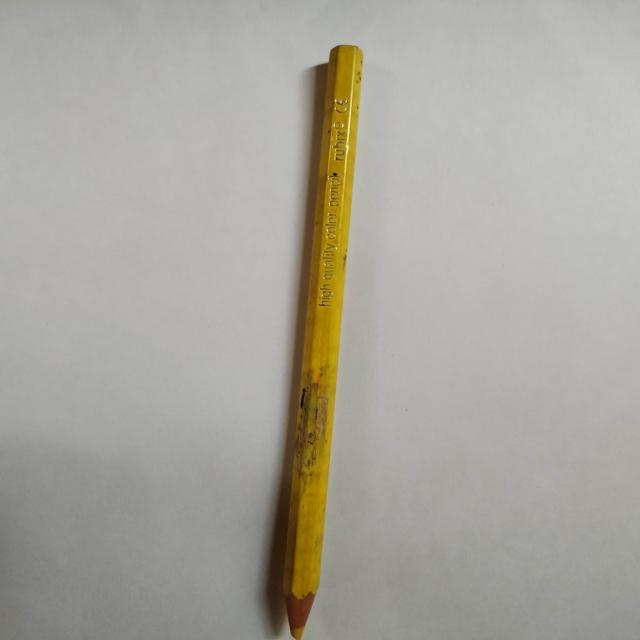pencil: (282, 44, 363, 639)
